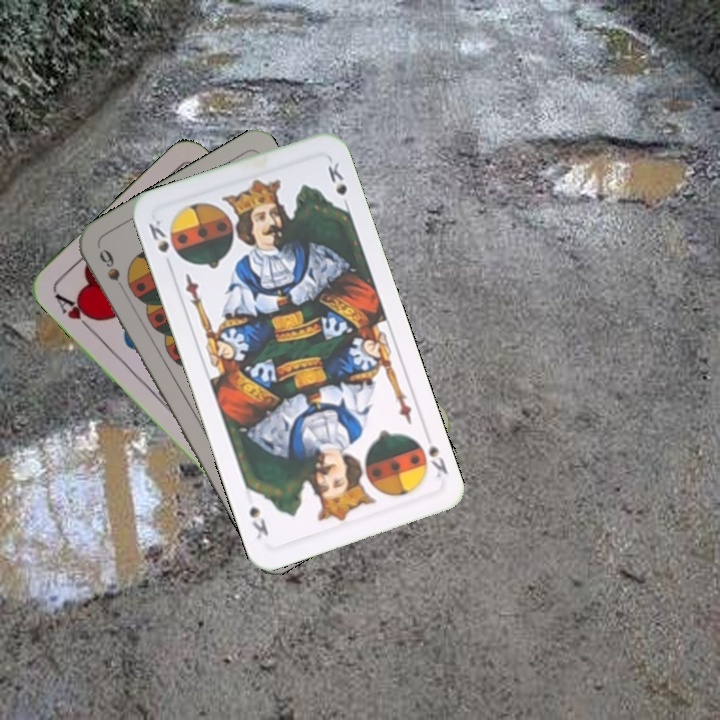HA: (50, 289, 100, 335)
S9: (95, 245, 129, 299)
SK: (411, 434, 451, 481), (144, 215, 172, 256)
